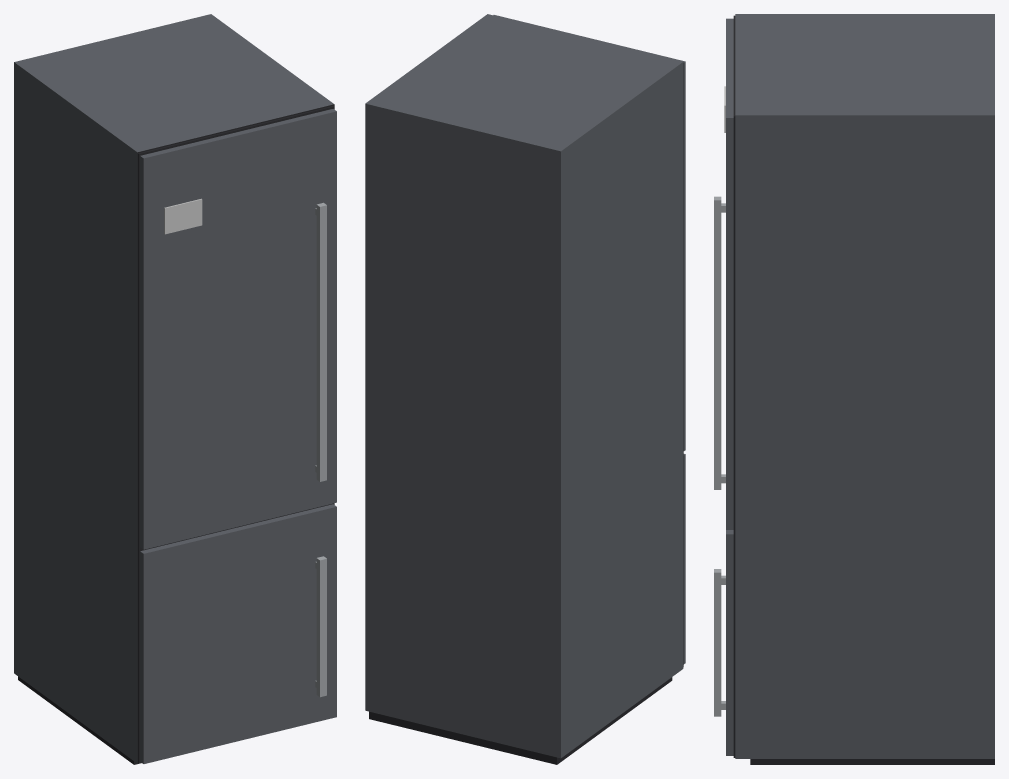
File: FN_Appliance_Fridge.obj
3 views of the same model, side by side, from view 1: azimuth 30°, elevation 25°; view 2: azimuth 150°, elevation 25°; view 3: azimuth 270°, elevation 25° (orthographic). The views are drawn at different scales.
Parts seen in each view (by area): view 1: FN_Appliance_Fridge; view 2: FN_Appliance_Fridge; view 3: FN_Appliance_Fridge.
Part boxes in pixels (x1,y1,x2,y2): FN_Appliance_Fridge: [14, 14, 336, 764]; FN_Appliance_Fridge: [365, 14, 685, 764]; FN_Appliance_Fridge: [714, 14, 994, 764].
Size of the model in its own units: 0.6 by 1.8 by 0.703.
2 materials, 1 textured.
